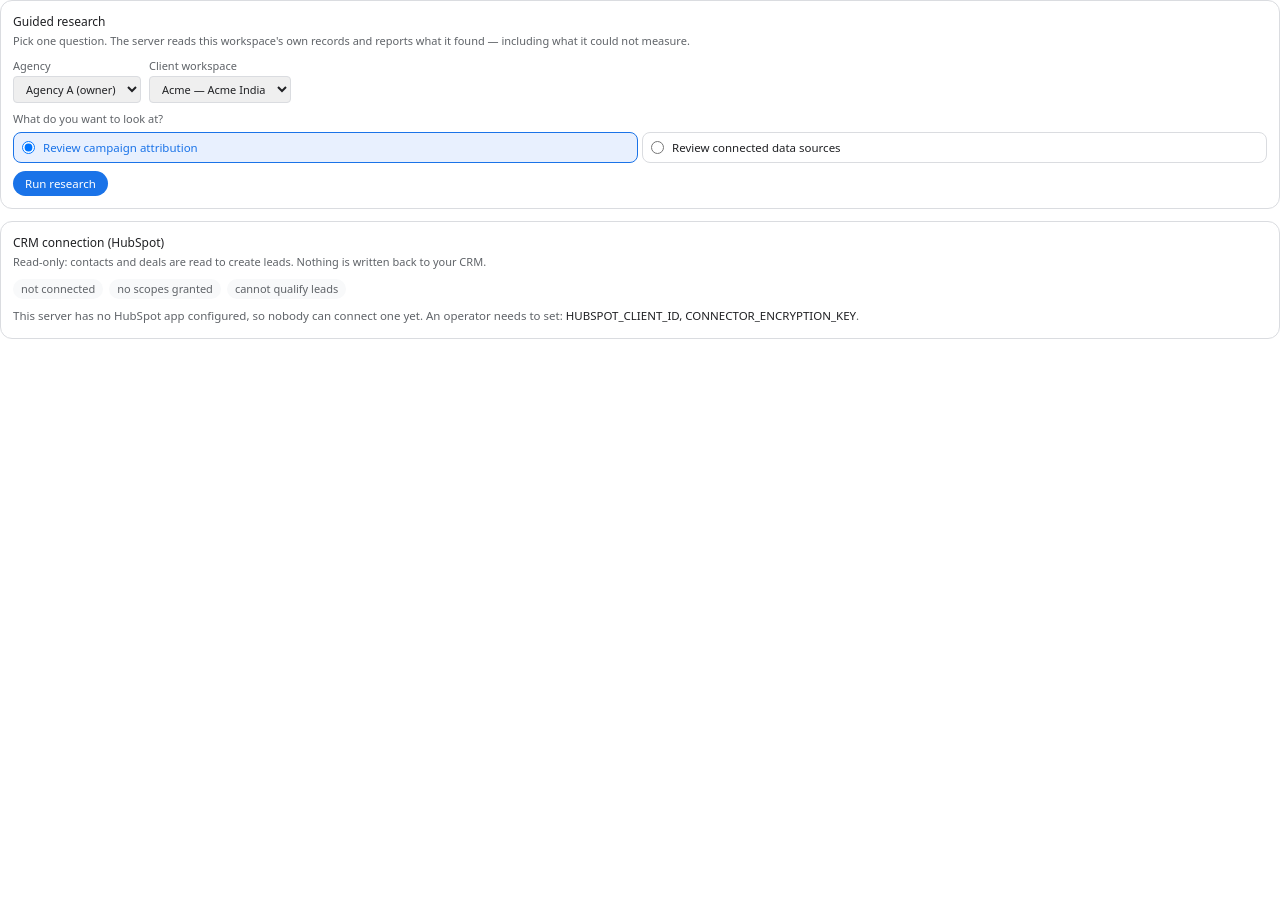
it: guided research › runs a research request and renders the server report without inventing numbers
expect the text "Review campaign attribution" is shown: met, box [13,132,638,163]
Click the button "Run research" at coordinates (60, 183), box [13,171,108,196]
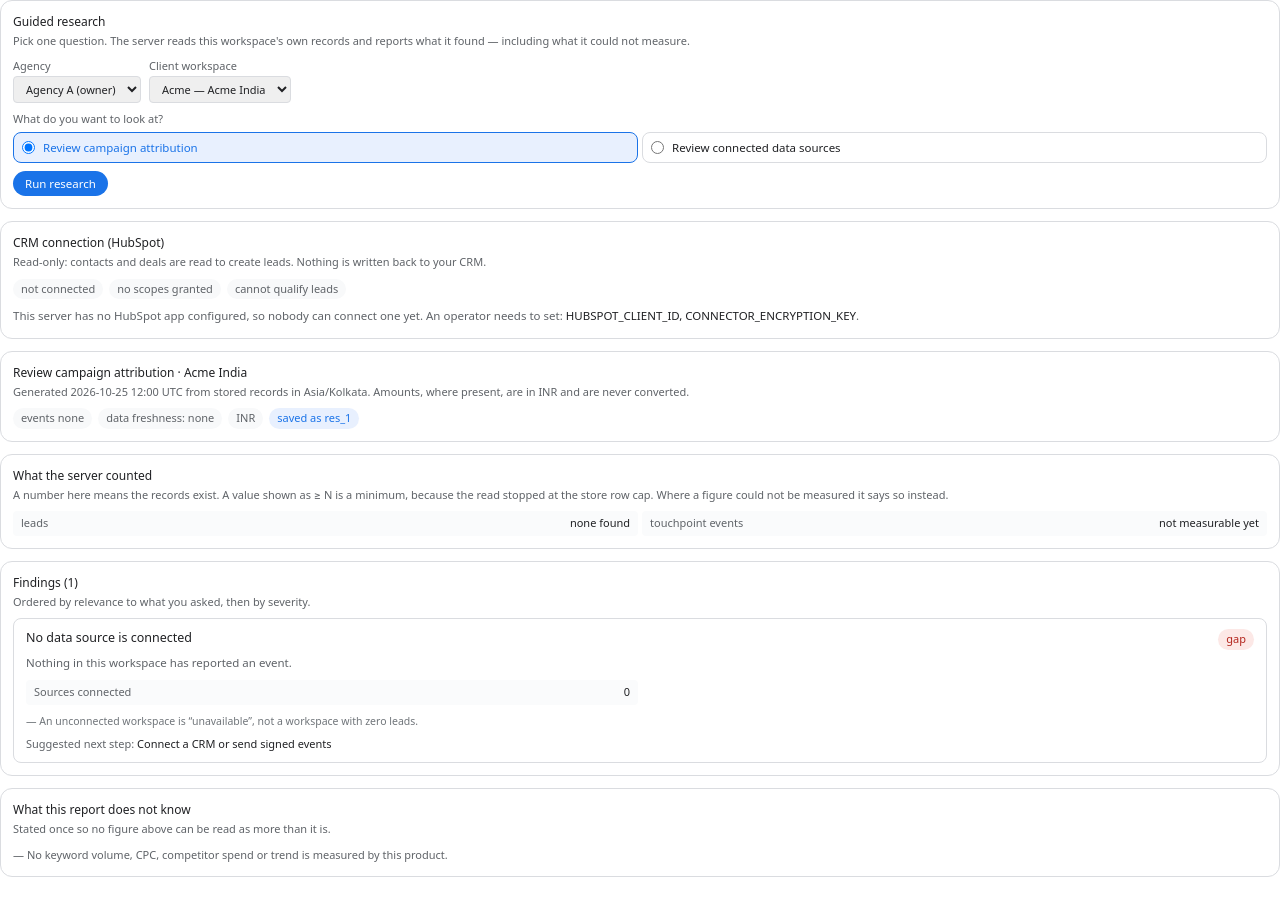
expect the element with test id "research-report" shows "not measurable yet": met, box [1159,515,1259,530]
expect the element with test id "research-report" shows "none found": met, box [570,515,630,530]
expect the element with test id "research-report" shows "saved as res_1": met, box [0,351,1279,877]
